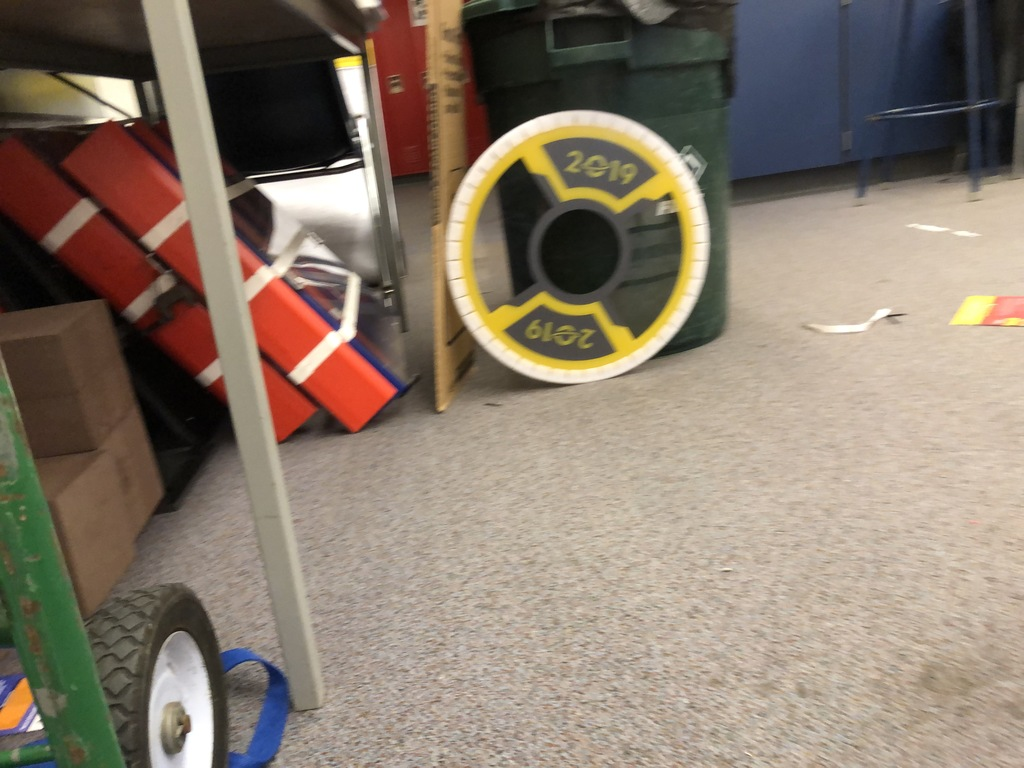hatch_panel: (438, 101, 724, 407)
